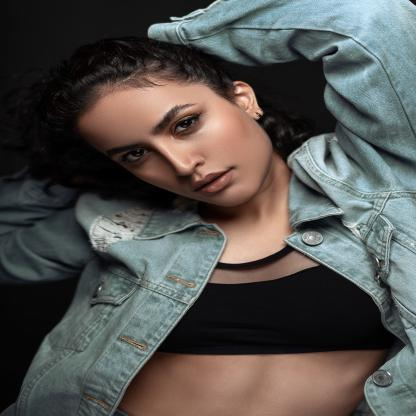Eye: (168, 109, 206, 142), (116, 144, 156, 166)
Mouth: (187, 161, 246, 196)
Nose: (152, 139, 206, 178)
